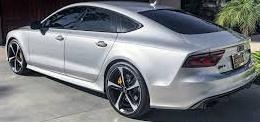Cars: (7, 4, 257, 118)
